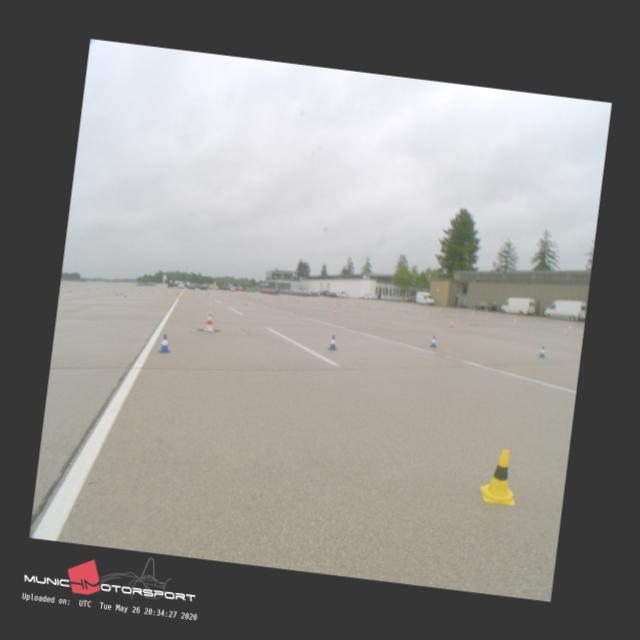blue_cone: (157, 332, 171, 352), (326, 334, 338, 348), (428, 335, 438, 347), (538, 345, 546, 357)
yellow_cone: (478, 446, 520, 505)
